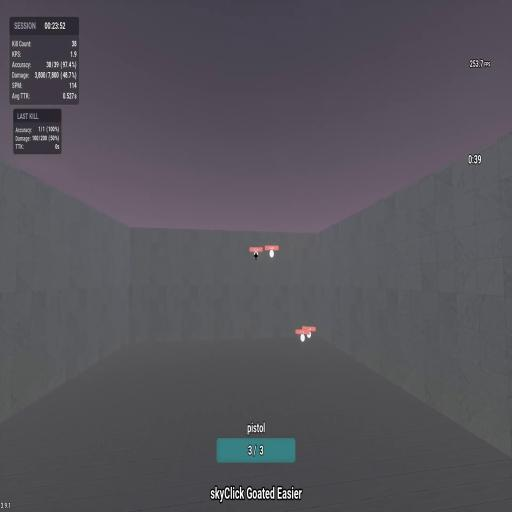Crosshair: (254, 252, 258, 260)
Target: (300, 334, 305, 342), (269, 250, 274, 257), (254, 251, 258, 259), (307, 331, 311, 338)
